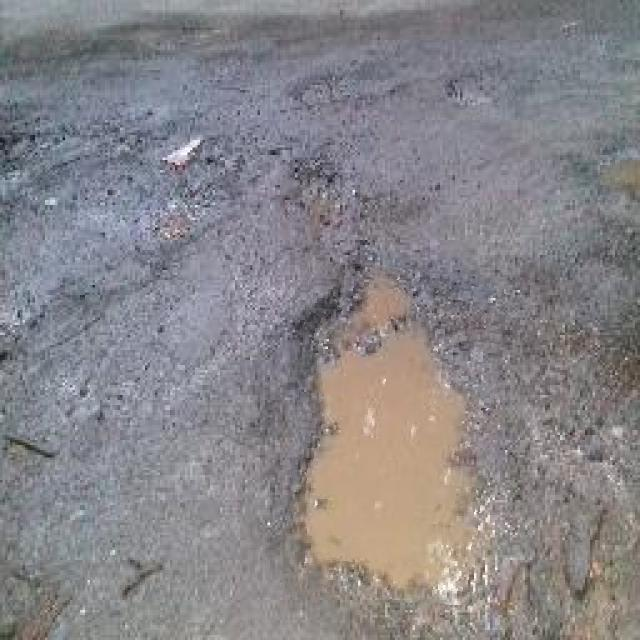puddle: (289, 265, 501, 604)
